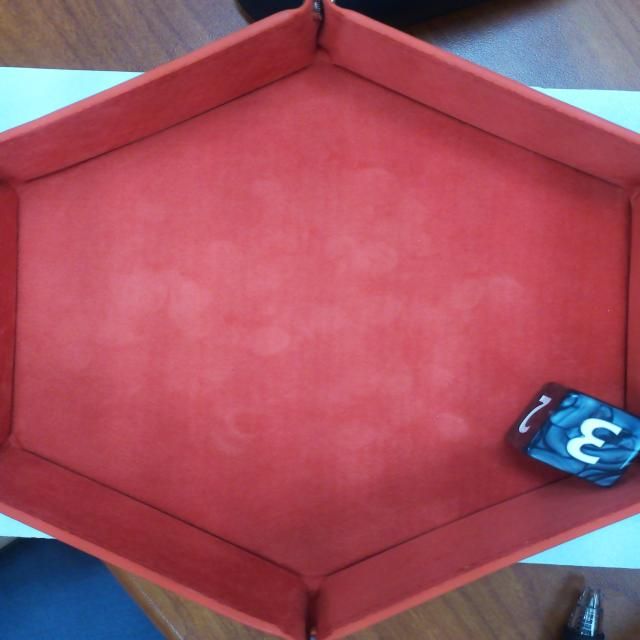dice: (517, 387, 640, 493)
